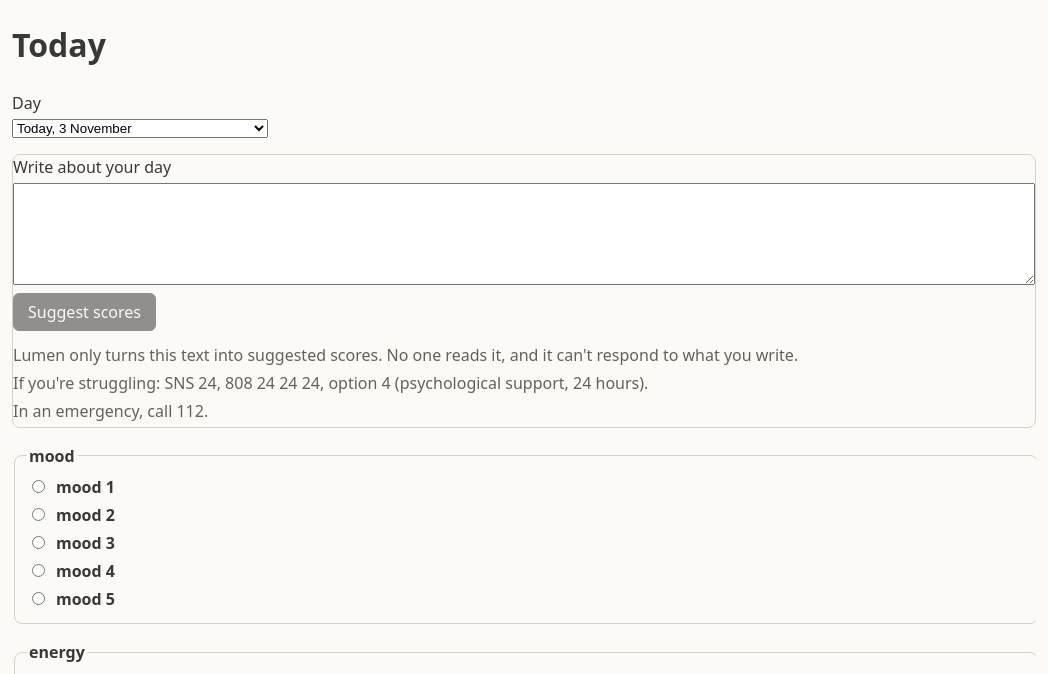
Test: free text › AC-14: shows the safety text before anything is typed, and while loading or failed
In the text box labelled "Write about your day": (524, 234) top-left (13, 183), bottom-right (1035, 285), type "marker_note slept badly, stressful meeting"
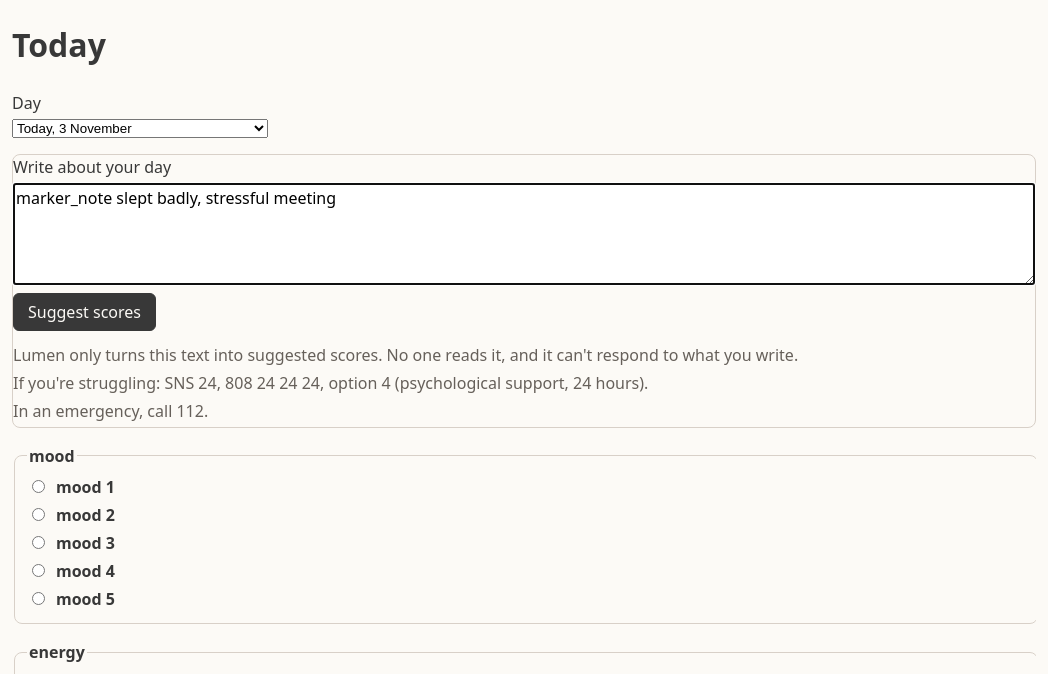
Click the button "Suggest scores": (84, 312) top-left (13, 293), bottom-right (156, 331)
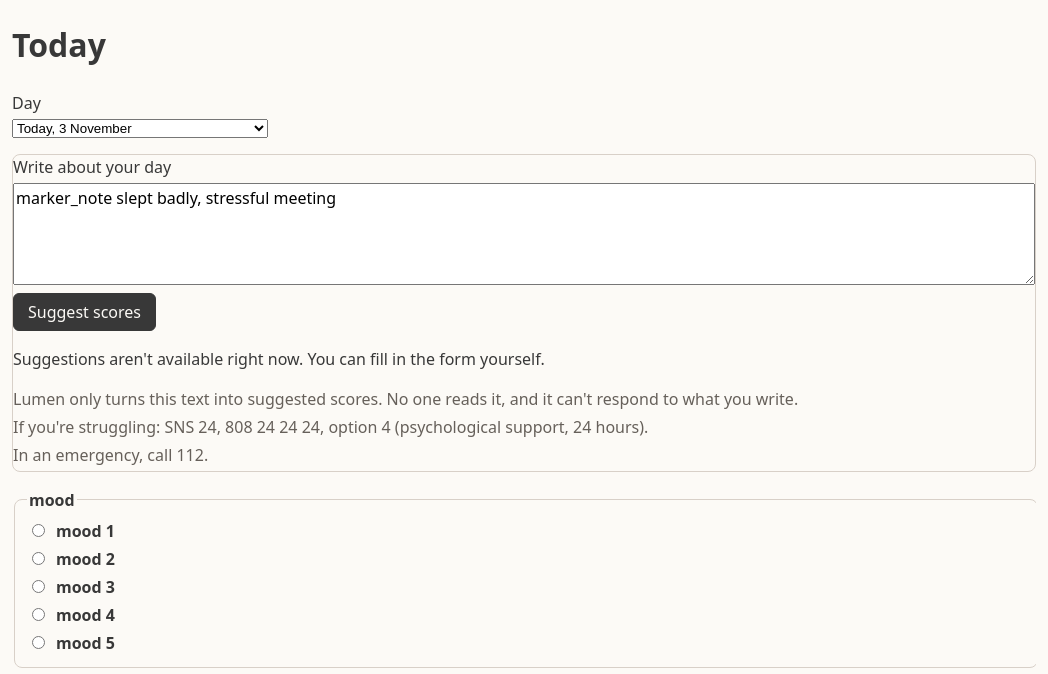
Expected: the message "Suggestions aren't available right now. You can fill in the form yourself." is shown, top-left (13, 348), bottom-right (545, 370)
